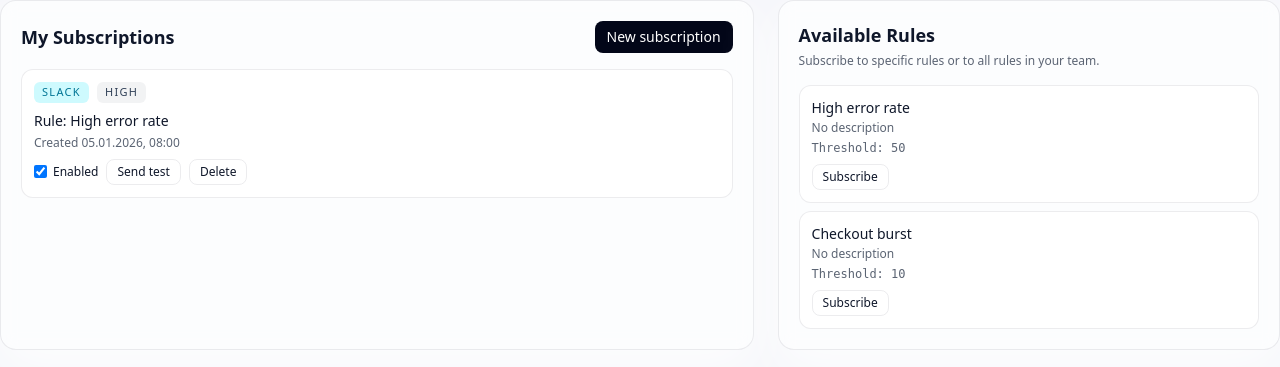
Test: enable, disable and test › sends a test and shows the result on that row
Click the button with aria-label "Send test notification: SLACK": (144, 172) [106,158,181,184]
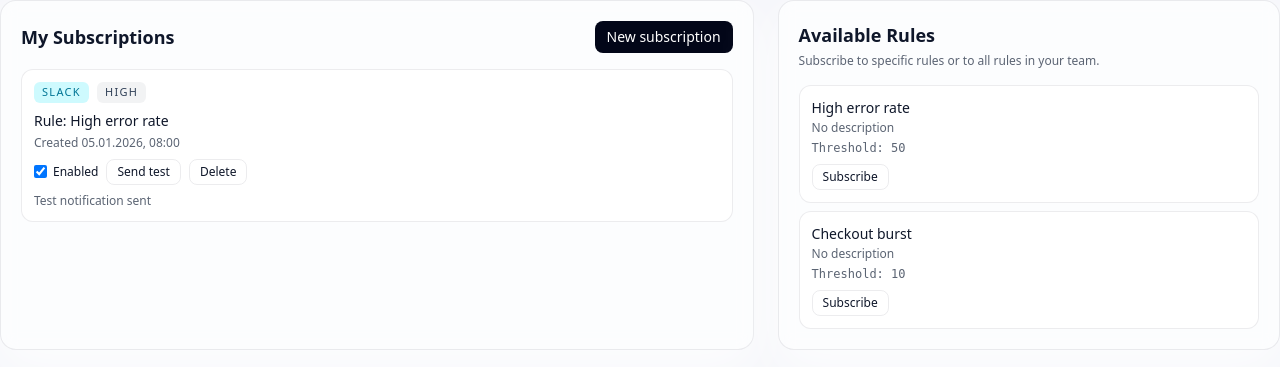
Check: the message reads "Test notification sent", box [34,192,151,208]
